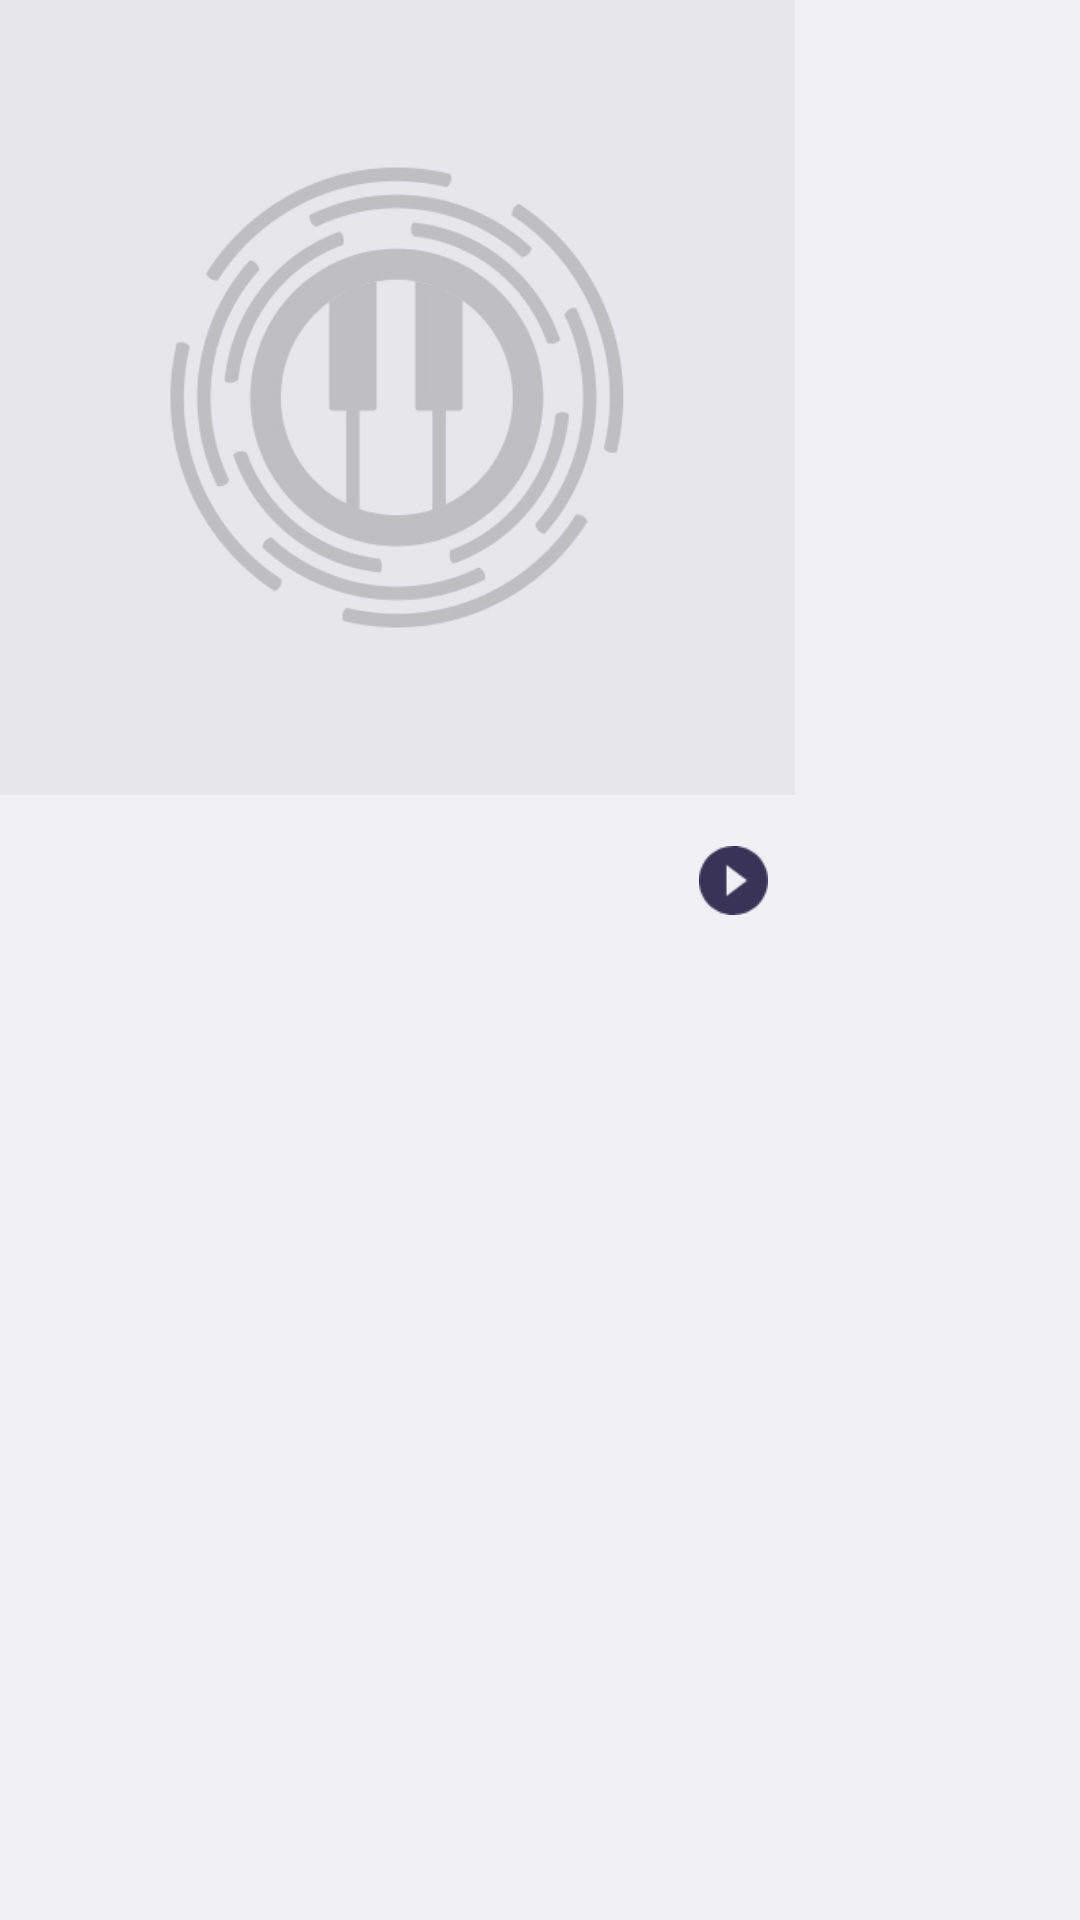

Icons on this 1080w x 1920h Android screen, each with the point to tap as (x,y):
home play: (733,880)
